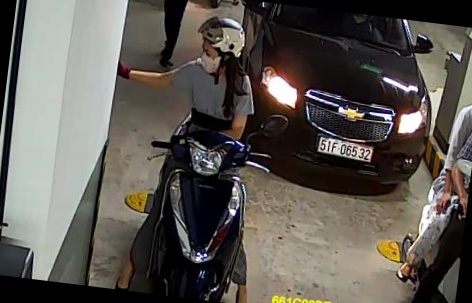plate: (310, 132, 385, 171)
